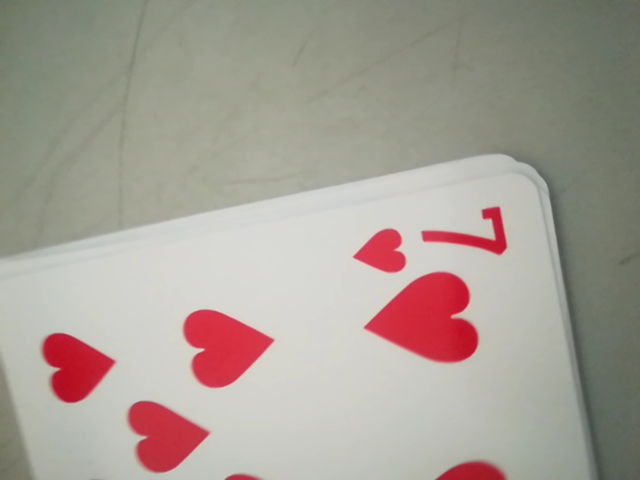hx 7: (350, 199, 520, 276)
